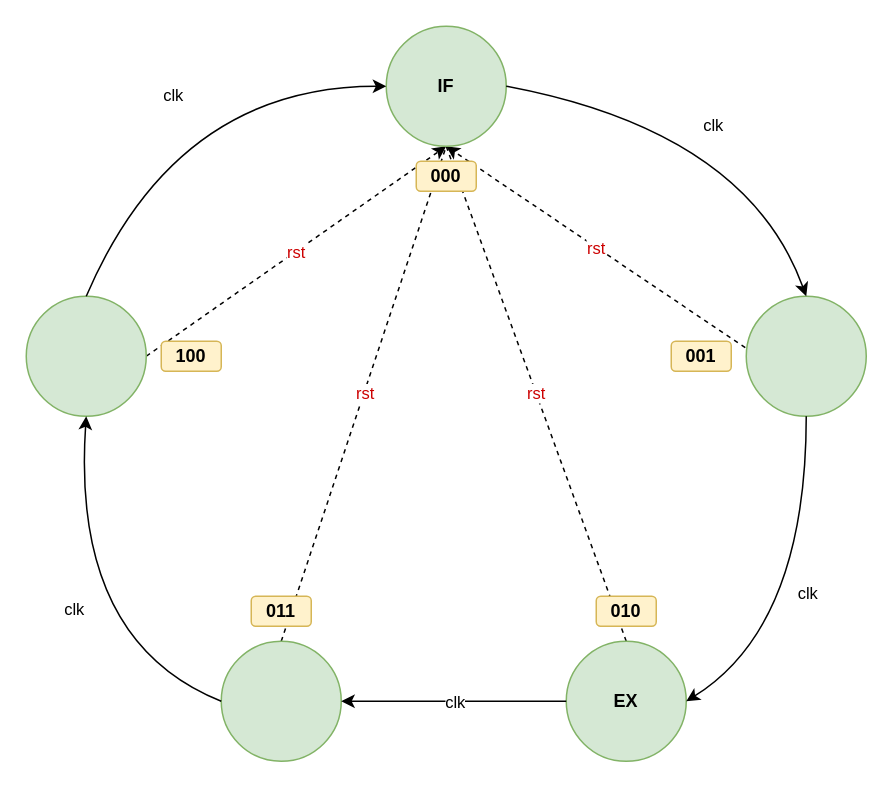
Some shapes in this 893 by 788 pixel diagram are drawn without their labels. Each missing label, with the box of its shape:
ID: (745, 295, 866, 416)
MEM: (220, 640, 341, 761)
WB: (25, 295, 146, 416)
